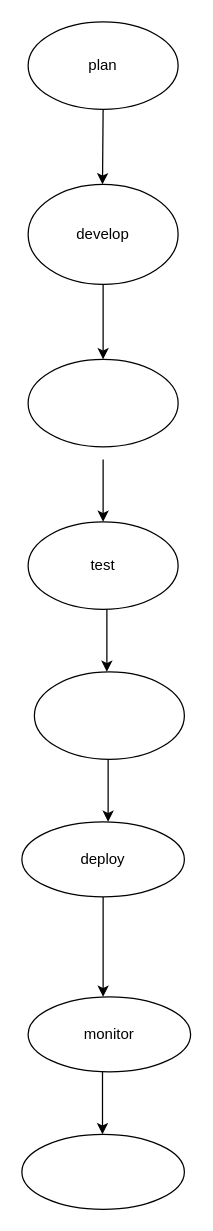
The diagram is 213 pixels wide and 1231 high, and some of its shapes have lost their labels. Each missing label, with the box of its shape:
build: (27, 358, 178, 447)
monitor circlecontinous: (21, 1133, 184, 1209)
release: (33, 671, 184, 759)
